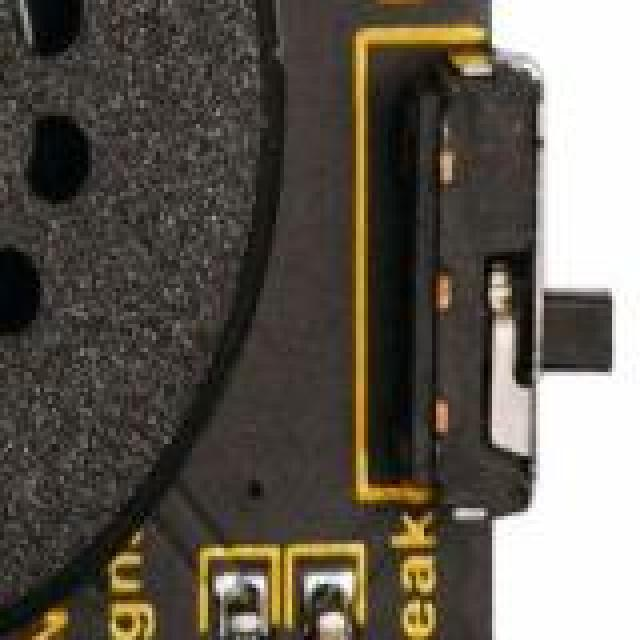buzzer: (0, 0, 256, 640)
capacitor: (308, 588, 368, 640)
resistor: (220, 568, 264, 640)
switch: (360, 28, 624, 536)
